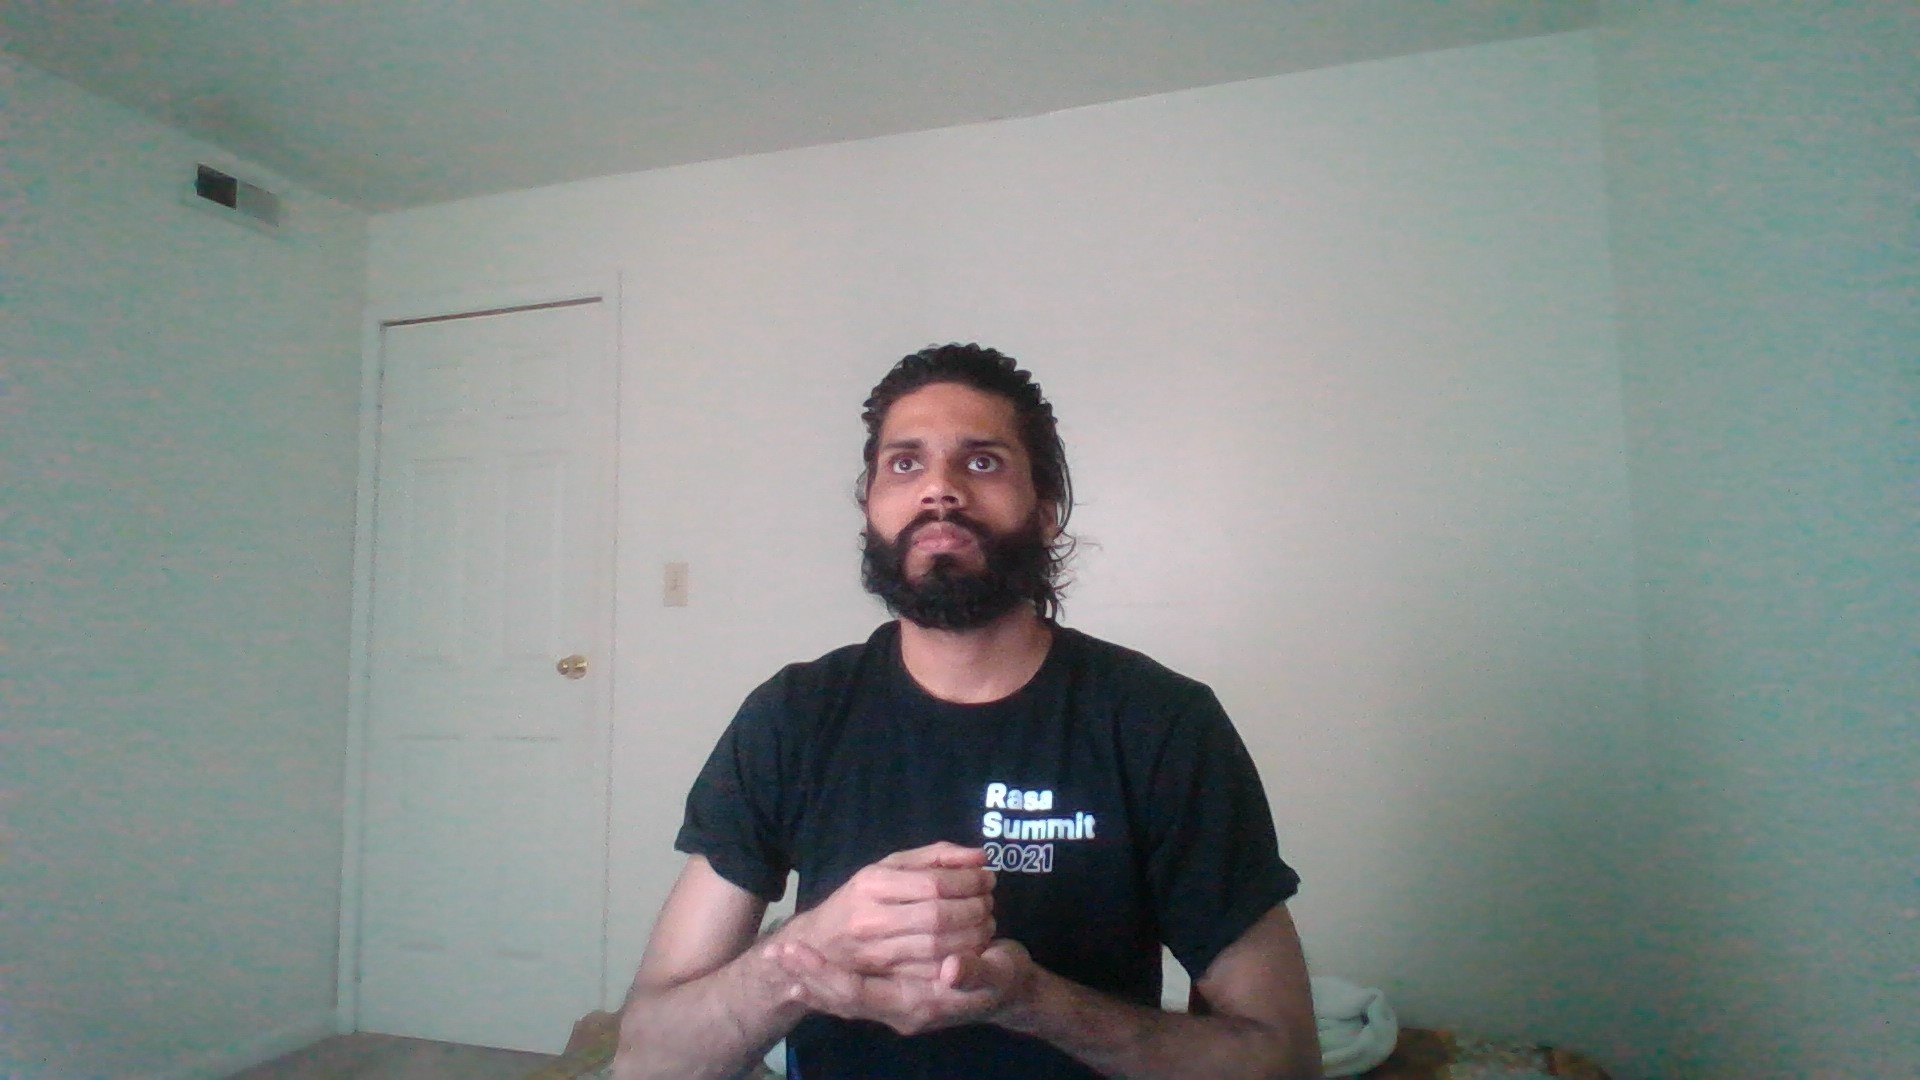Cup: (673, 832, 1131, 1056)
